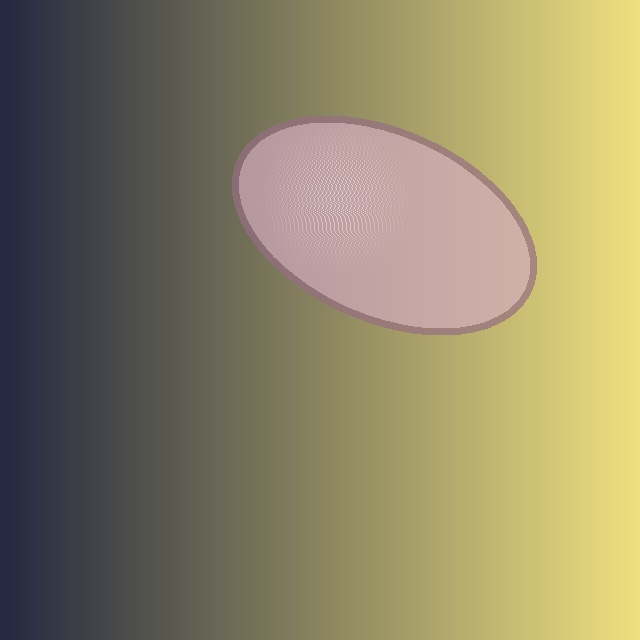lens: (235, 119, 533, 331)
